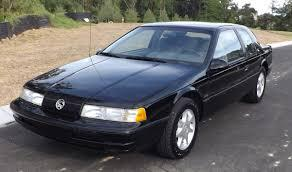Mercury: (50, 95, 69, 116)
